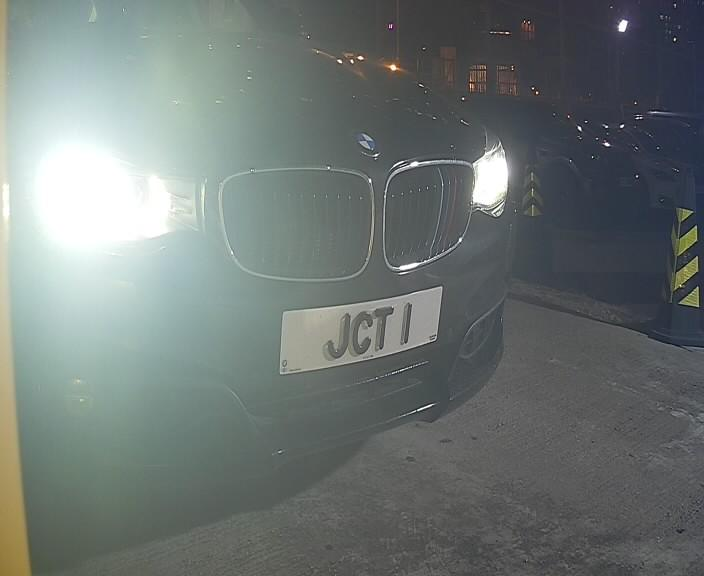License Plate: (293, 273, 444, 379)
